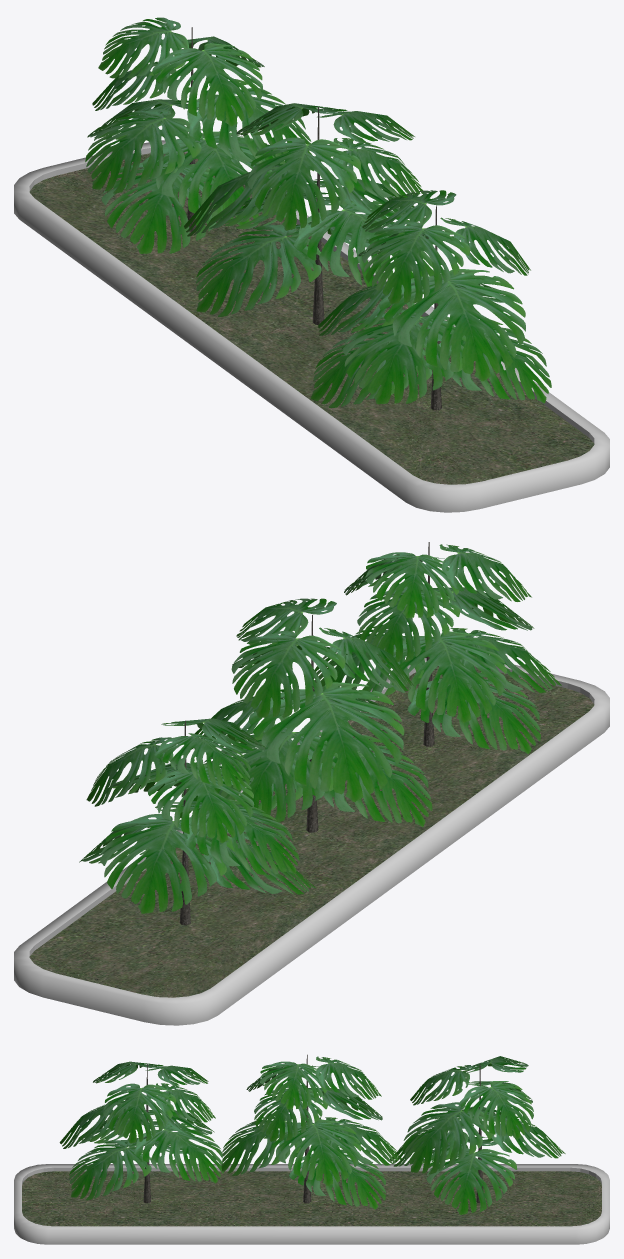
Rendered from Garden-05d.fbx.
The picture shows the model from 3 angles, top to bottom: view 1: azimuth 30°, elevation 25°; view 2: azimuth 150°, elevation 25°; view 3: azimuth 270°, elevation 25°; orthographic projection. The views are drawn at different scales.
Parts seen in each view (by area): view 1: Garden-05d; view 2: Garden-05d; view 3: Garden-05d.
Part boxes in pixels (left/top/right/bottom): Garden-05d: left=14, top=17, right=609, bottom=512; Garden-05d: left=14, top=542, right=609, bottom=1025; Garden-05d: left=14, top=1054, right=609, bottom=1244.
Size of what is drawn, in the model's own units: 1.95 by 1.65 by 5.63.
